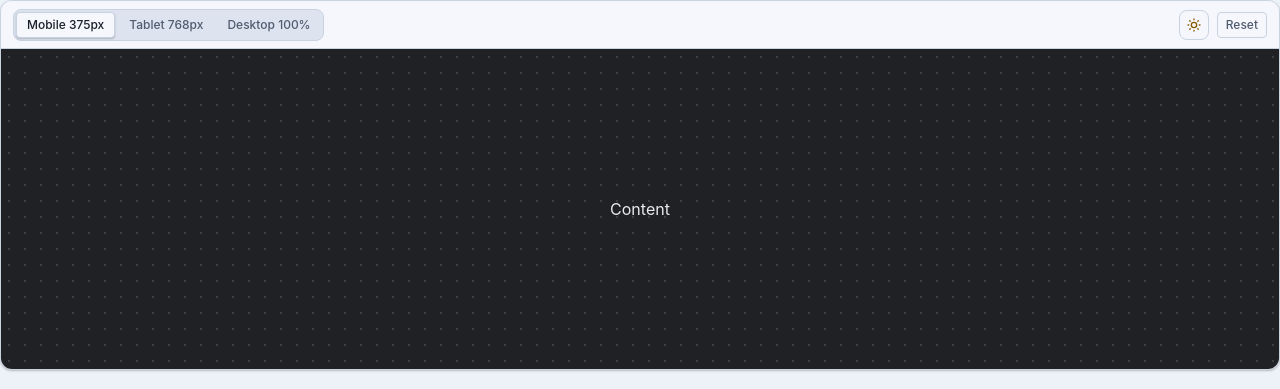
Test: PreviewStage › resets viewport and stage theme and triggers onReset callback
Click the button "Reset" at [1242, 24], box [1217,12,1267,38]
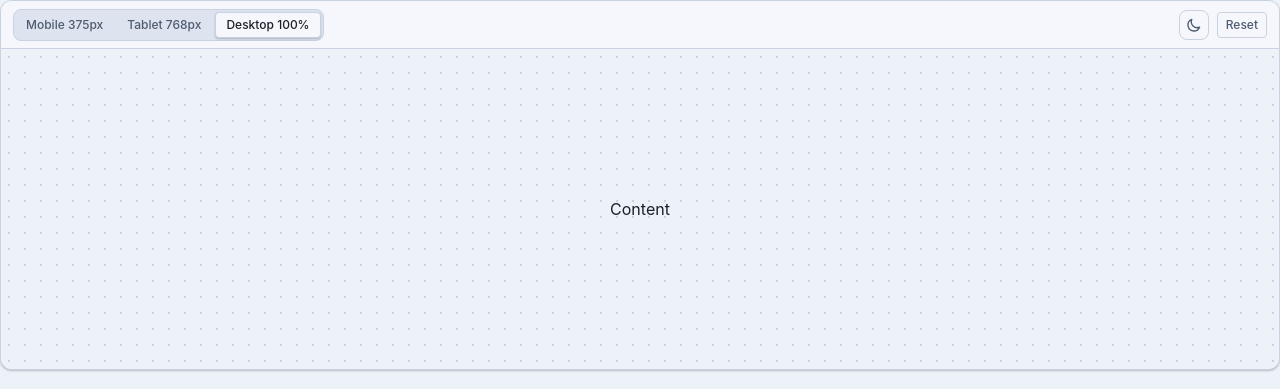
Expected: the element with test id "preview-stage" has class "light"
Expected: the element with test id "preview-stage" does not have class "dark"
Expected: the element with test id "viewport-container" has class "max-w-full", [610,199,670,219]
